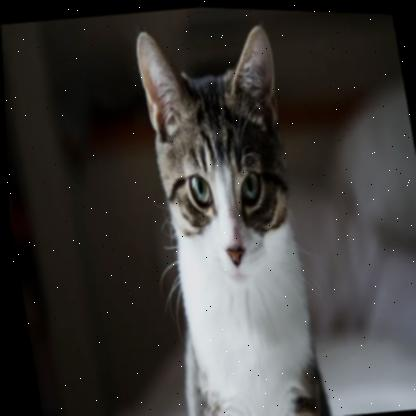cat: (133, 18, 327, 416)
